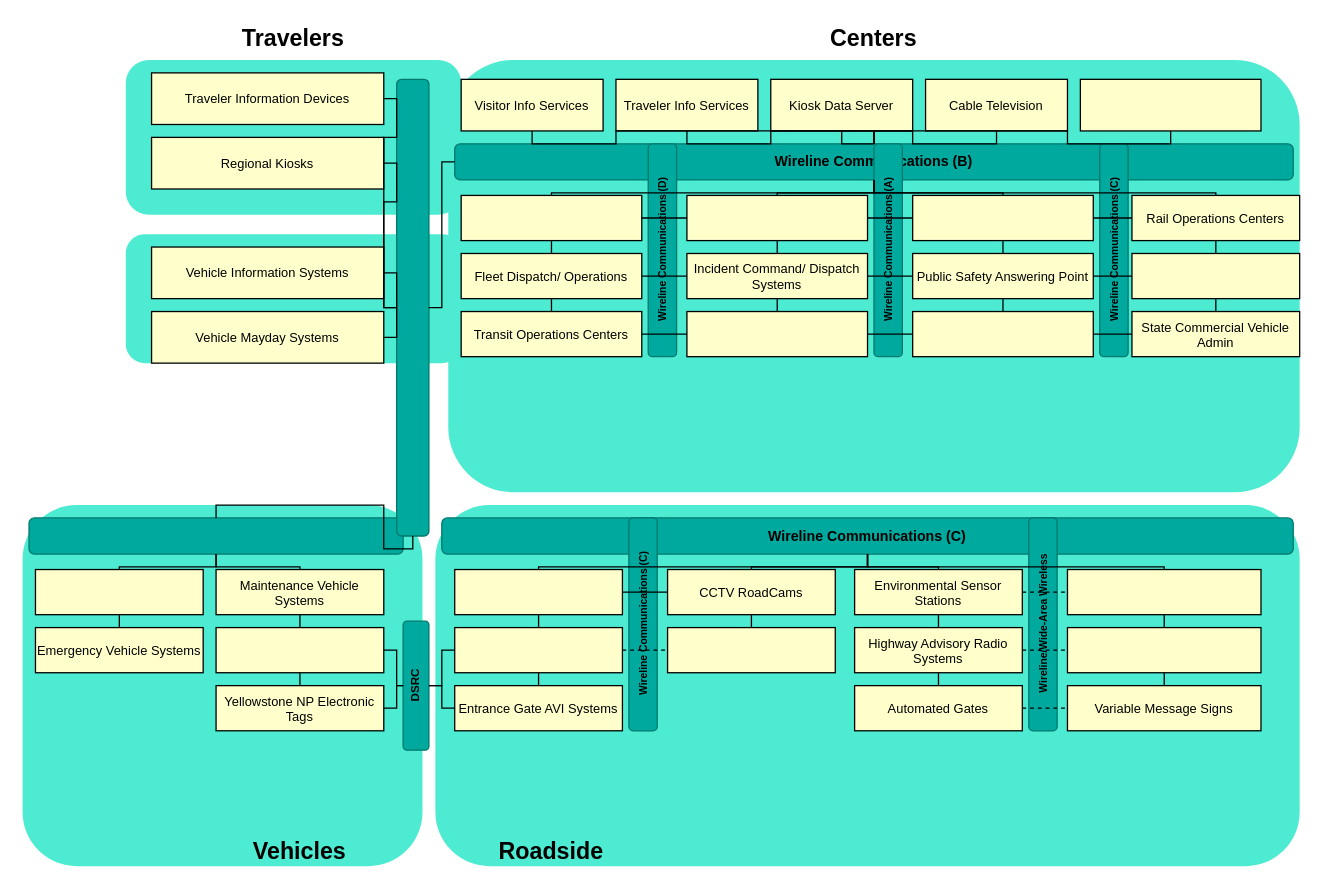
Image size: 1322x890. Some labels were removed from this diagram. Here are the shapes that lost their labels. From the top down, the box of each, then its label:
(1079, 78, 1261, 131): Traveler Service Providers
(460, 194, 642, 241): Weather Service
(686, 194, 868, 241): Regional Server
(911, 194, 1093, 241): Mayday Message Answering Points
(1131, 252, 1300, 299): Park Entrance Fee Administration
(395, 78, 429, 536): Commercial Wireline/Wide Area Wireless
(686, 310, 868, 357): Maintenance Mgmt Systems
(911, 310, 1093, 357): State DOT Operations Centers
(28, 517, 403, 554): Wide Area Wireless - Trunked/Dedicated Radio Systems
(34, 568, 203, 615): Transit Vehicle Systems
(453, 568, 622, 615): National Park Parking Systems
(1066, 568, 1261, 615): Animal-Vehicle Warning Systems
(215, 626, 384, 673): Commercial Vehicle Systems
(453, 626, 622, 673): Weigh Station Systems
(666, 626, 835, 673): Intersection Warning Systems
(1066, 626, 1261, 673): Dynamic Warning VMS
